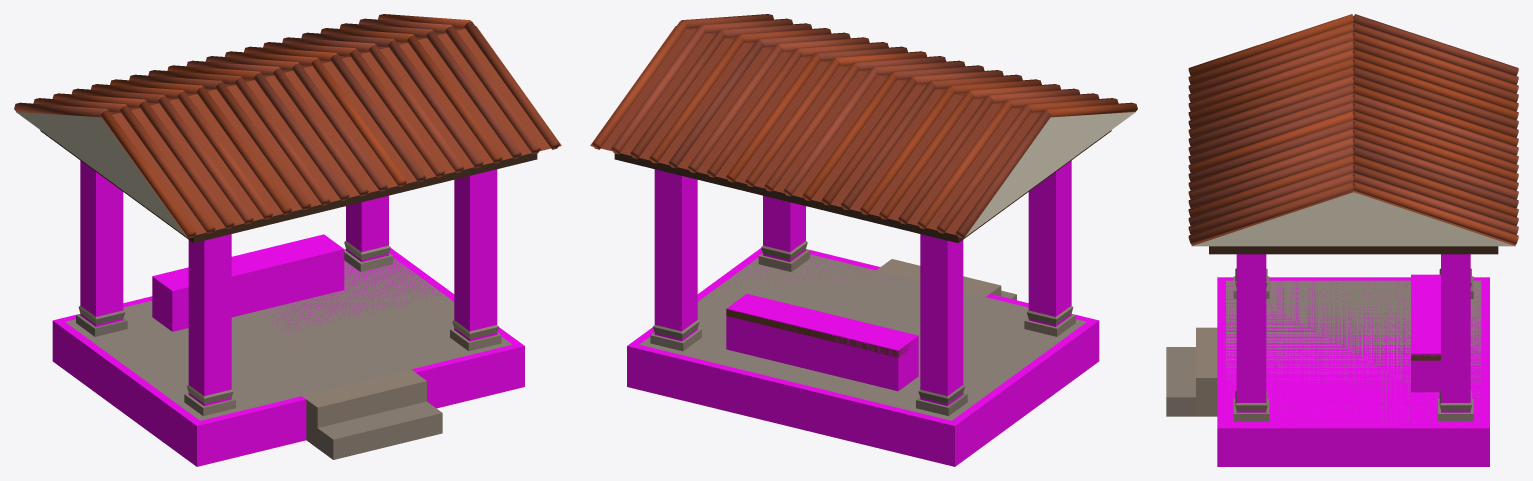
File: ENV_Seating_Platform_A.glb
3 views of the same model, side by side, from view 1: azimuth 30°, elevation 25°; view 2: azimuth 150°, elevation 25°; view 3: azimuth 270°, elevation 25° (orthographic). The views are drawn at different scales.
Visible parts, largest first — view 1: ENV_Seating_Platform_A_Mesh, WALK_Platform, COL_Bench, COL_Pillar_-1_-1, COL_Pillar_1_-1, COL_Pillar_-1_1, COL_Pillar_1_1; view 2: ENV_Seating_Platform_A_Mesh, WALK_Platform, COL_Bench, COL_Pillar_-1_1, COL_Pillar_1_1, COL_Pillar_-1_-1, COL_Pillar_1_-1; view 3: ENV_Seating_Platform_A_Mesh, WALK_Platform, COL_Pillar_1_-1, COL_Pillar_1_1, COL_Bench.
Boxes of the visible parts, box(x1,y1,x2,y2) form: ENV_Seating_Platform_A_Mesh: box(14, 14, 561, 459); WALK_Platform: box(52, 248, 524, 466); COL_Bench: box(152, 234, 344, 331); COL_Pillar_-1_-1: box(188, 234, 231, 405); COL_Pillar_1_-1: box(454, 169, 497, 341); COL_Pillar_-1_1: box(80, 160, 123, 326); COL_Pillar_1_1: box(346, 195, 388, 261); ENV_Seating_Platform_A_Mesh: box(590, 14, 1137, 420); WALK_Platform: box(627, 248, 1099, 466); COL_Bench: box(726, 294, 918, 391); COL_Pillar_-1_1: box(920, 234, 963, 405); COL_Pillar_1_1: box(654, 169, 697, 341); COL_Pillar_-1_-1: box(1028, 160, 1071, 326); COL_Pillar_1_-1: box(763, 195, 805, 261); ENV_Seating_Platform_A_Mesh: box(1166, 14, 1518, 424); WALK_Platform: box(1217, 277, 1489, 466); COL_Pillar_1_-1: box(1236, 254, 1266, 412); COL_Pillar_1_1: box(1441, 254, 1470, 412); COL_Bench: box(1411, 274, 1440, 392).
Bounding box in the file's own units: 4.81 × 3.78 × 4.14.
